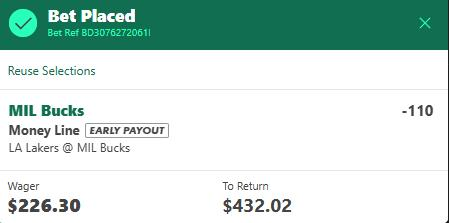game: (5, 142, 132, 156)
odds: (396, 103, 436, 119)
payout: (223, 197, 294, 216)
wager: (6, 196, 82, 217)
